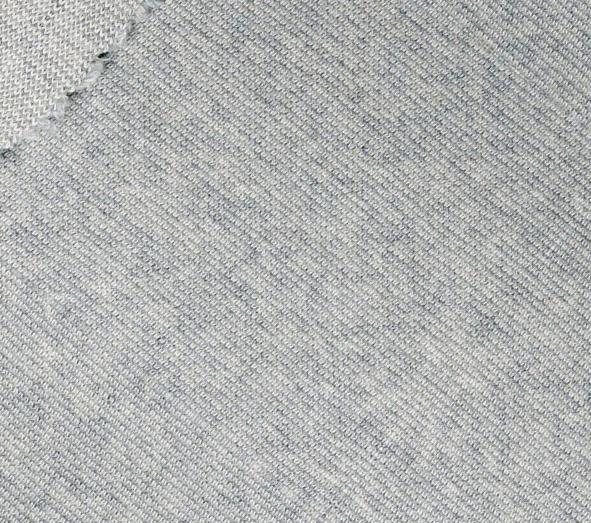slub: (3, 0, 162, 166)
